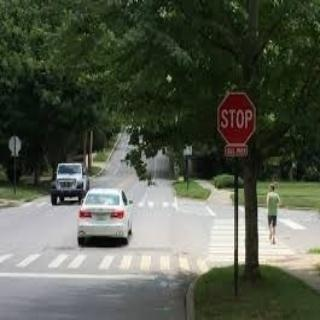sign_stop: (216, 92, 253, 146)
